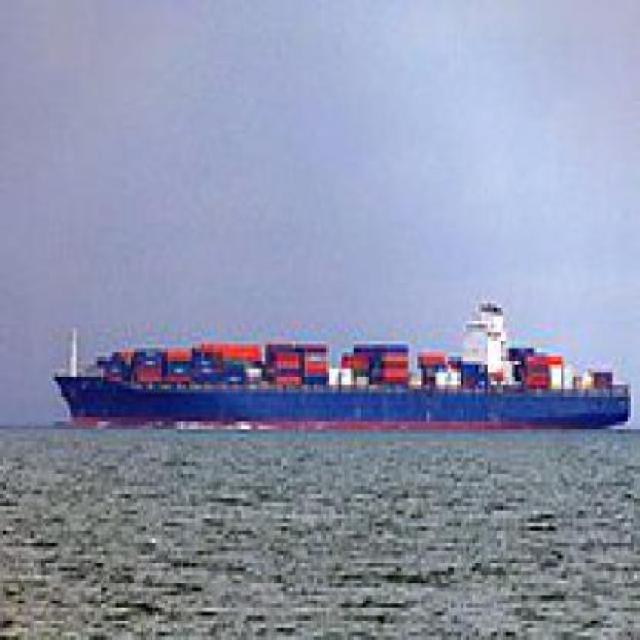container: (46, 284, 639, 447)
